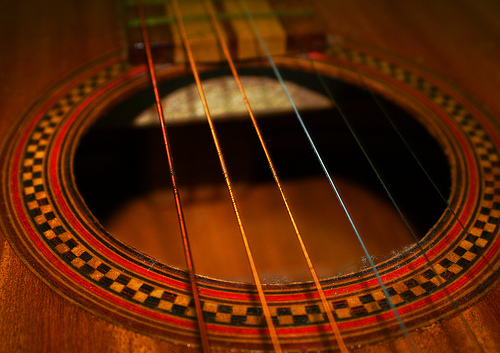guitar: (1, 1, 500, 353)
